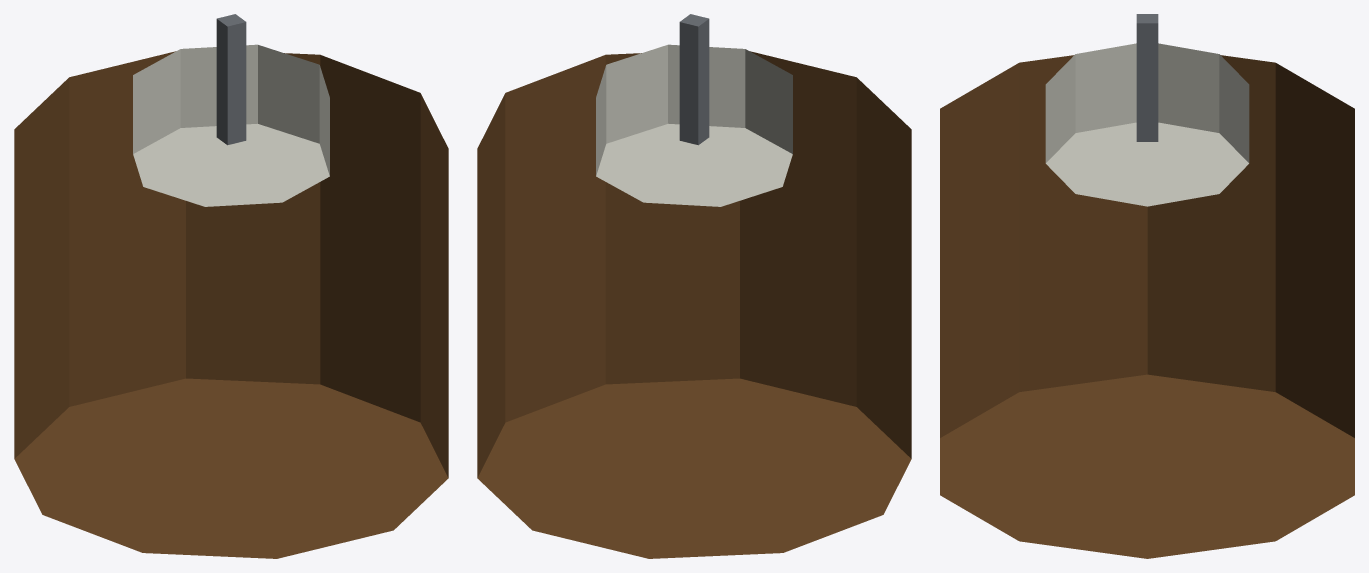
File: coconut.glb
3 views of the same model, side by side, from view 1: azimuth 30°, elevation 25°; view 2: azimuth 150°, elevation 25°; view 3: azimuth 270°, elevation 25° (orthographic).
Parts seen in each view (by area): view 1: coconut; view 2: coconut; view 3: coconut.
Part boxes in pixels (x1,y1,x2,y2): coconut: (14,14,448,558); coconut: (477,14,911,558); coconut: (940,14,1354,558).
Size of the model in its own units: 0.6 by 0.68 by 0.5706.
